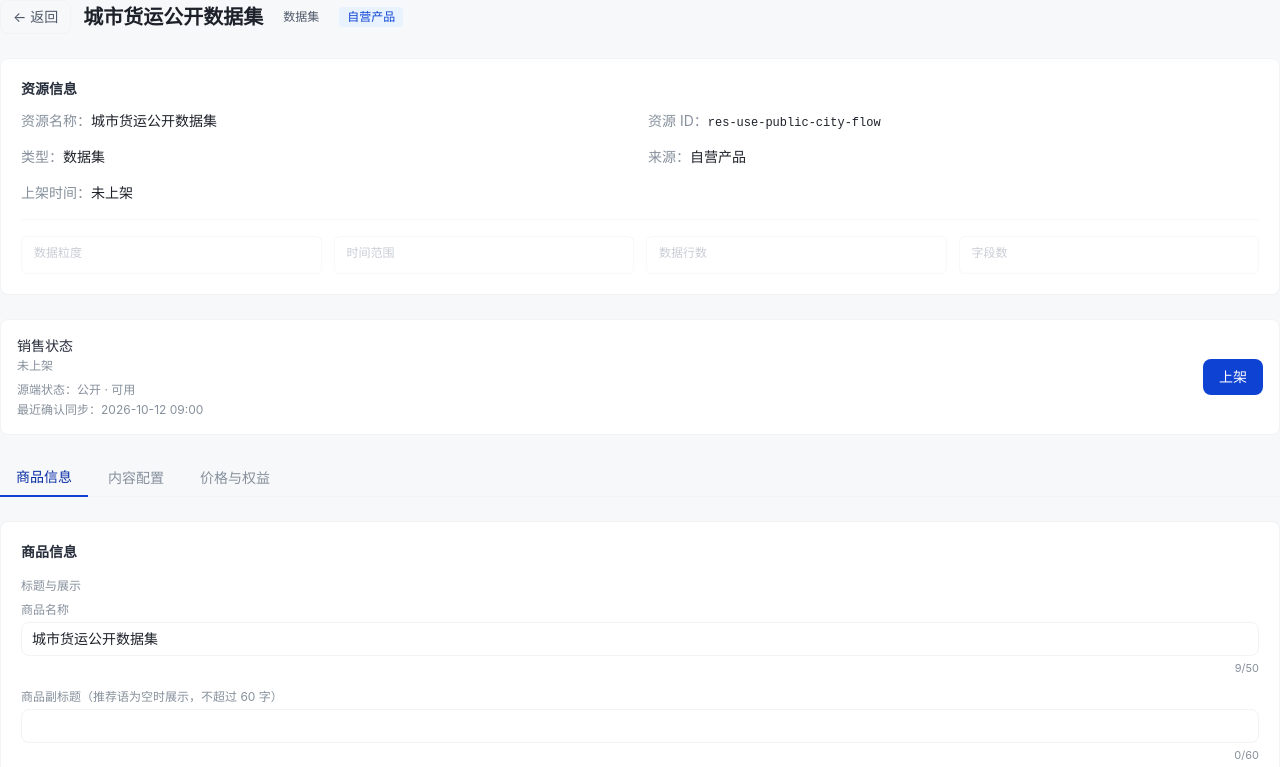
Test: ResourceEdit product-detail mapping › uses the common edit and publish flow for a public dataset
Expected: the element with test id "sales-status-bar" shows "未上架", [17, 358, 53, 373]
Expected: the field with test id "product-name-input" holds "城市货运公开数据集", [21, 622, 1259, 656]
Click the tab "价格与权益".
click(235, 478)  # box [184, 459, 286, 497]
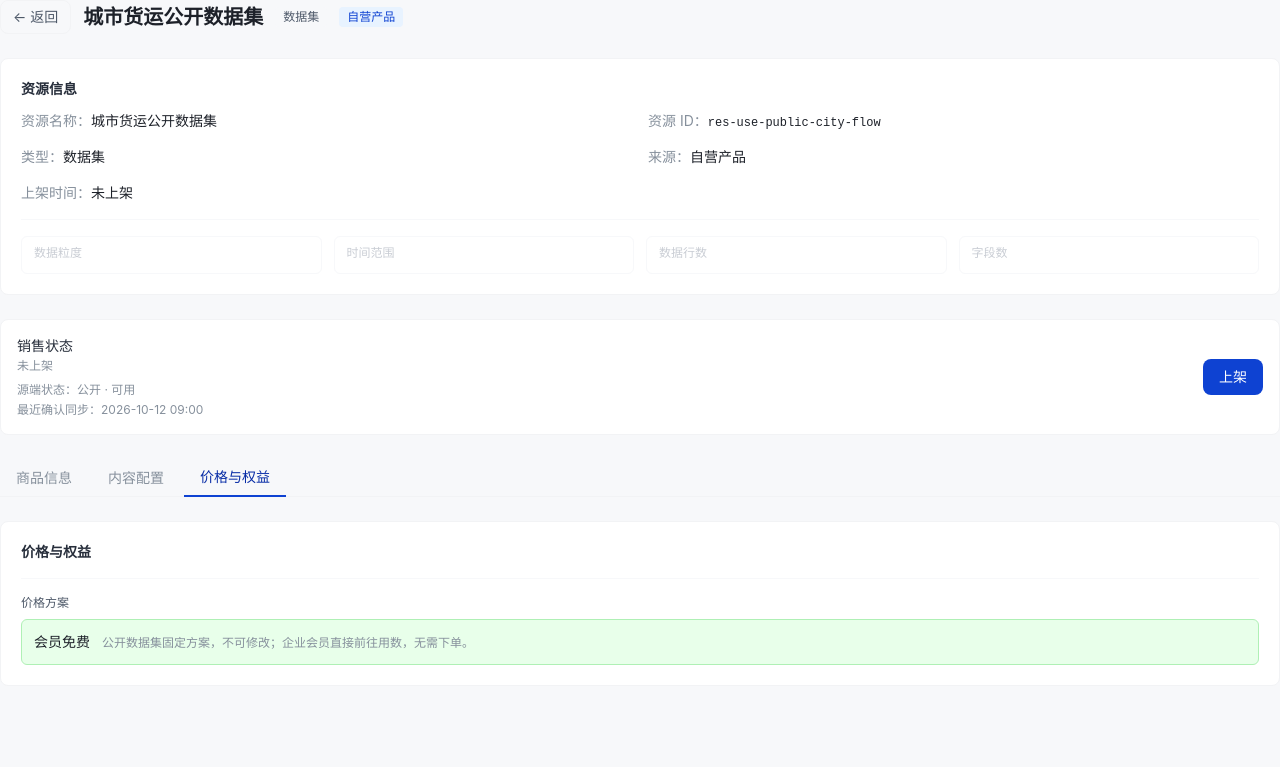
Expected: the element with test id "public-pricing-readonly" shows "会员免费", [34, 633, 90, 650]
Click the tab with test id "resource-edit-tab-product".
click(44, 478)  # box [0, 459, 88, 497]
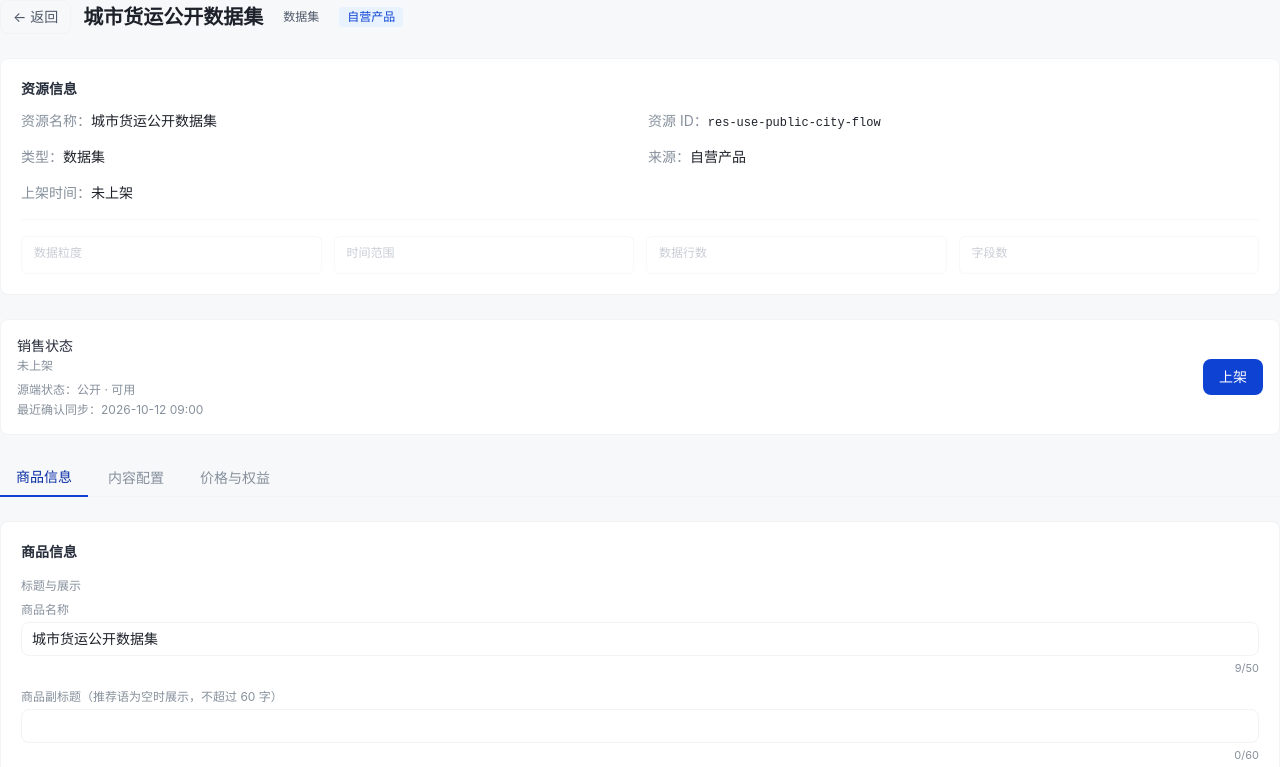
Replace the text in the field with test id "product-name-input" with "城市货运公开数据集（商品）" at (640, 639), box [21, 622, 1259, 656]
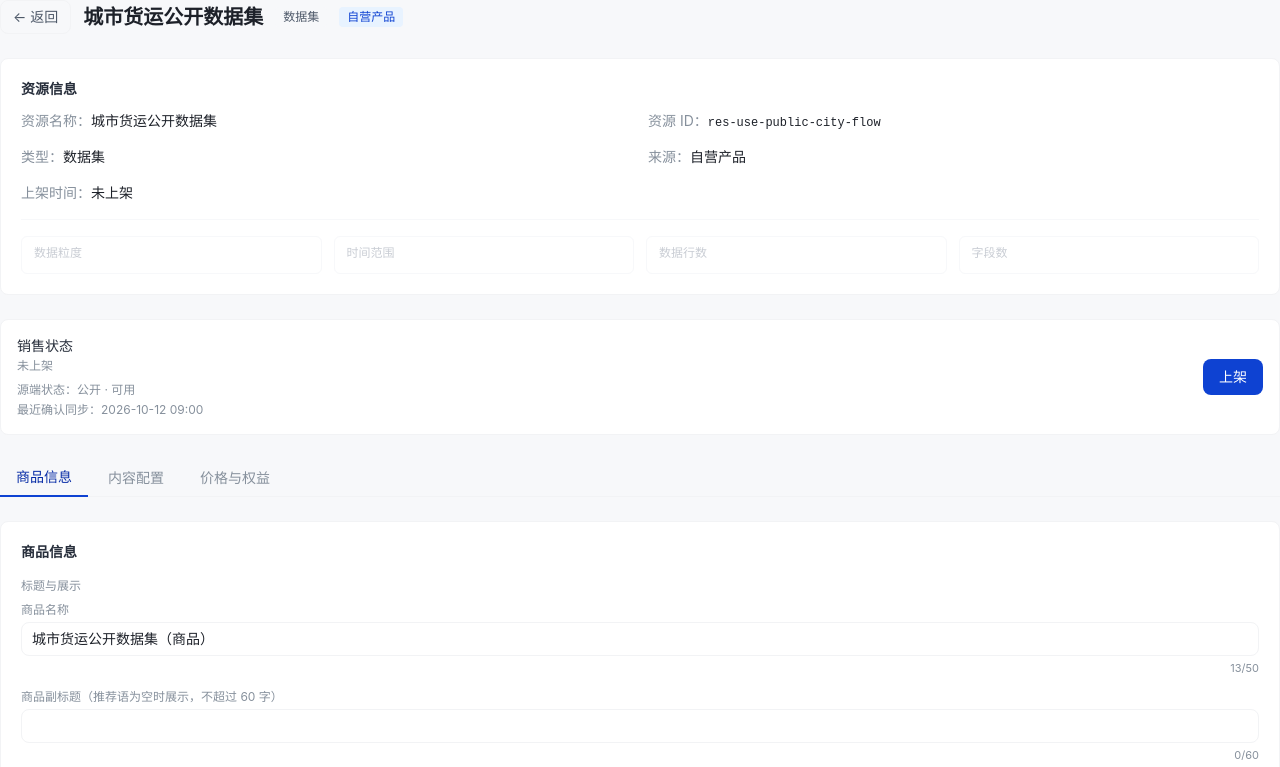
Click the button with test id "publish-product".
click(1233, 377)  # box [1203, 359, 1263, 395]
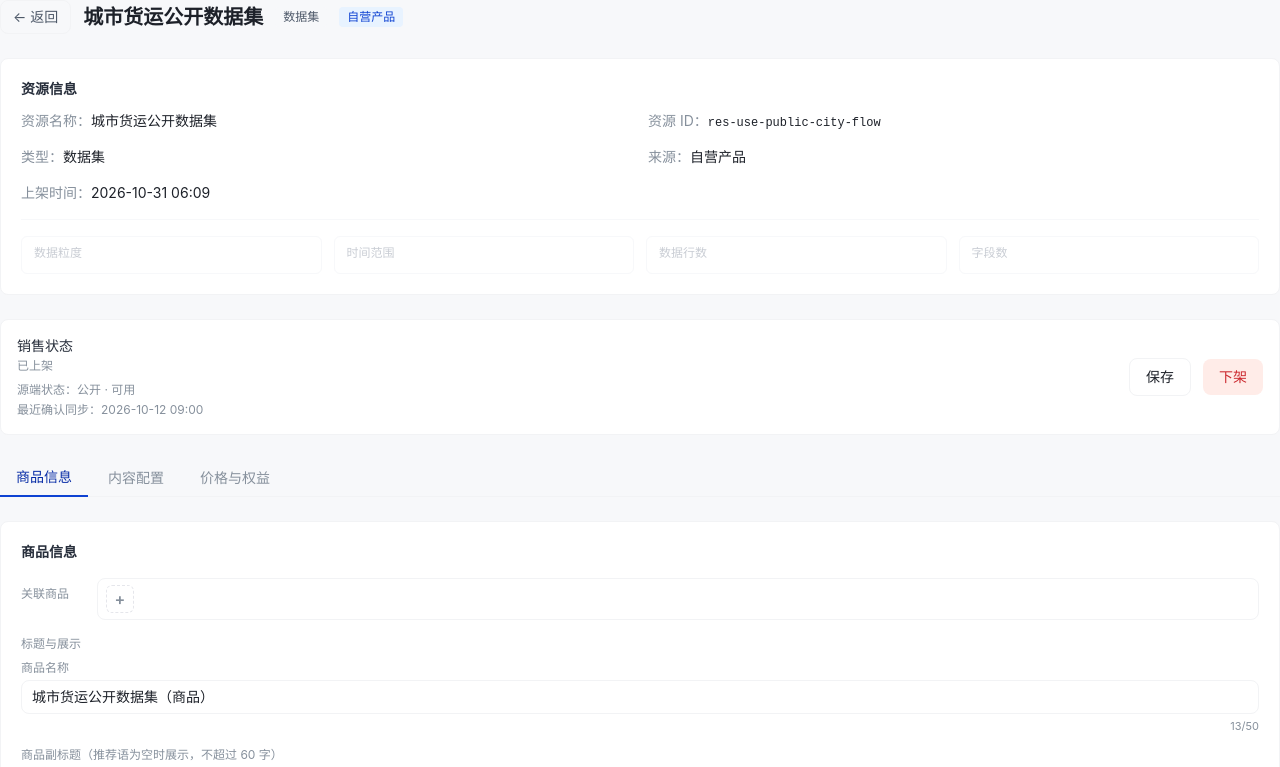
Expected: the button with test id "delist-product" is shown, [1203, 359, 1263, 395]
Click the tab "价格与权益".
click(235, 478)  # box [184, 459, 286, 497]
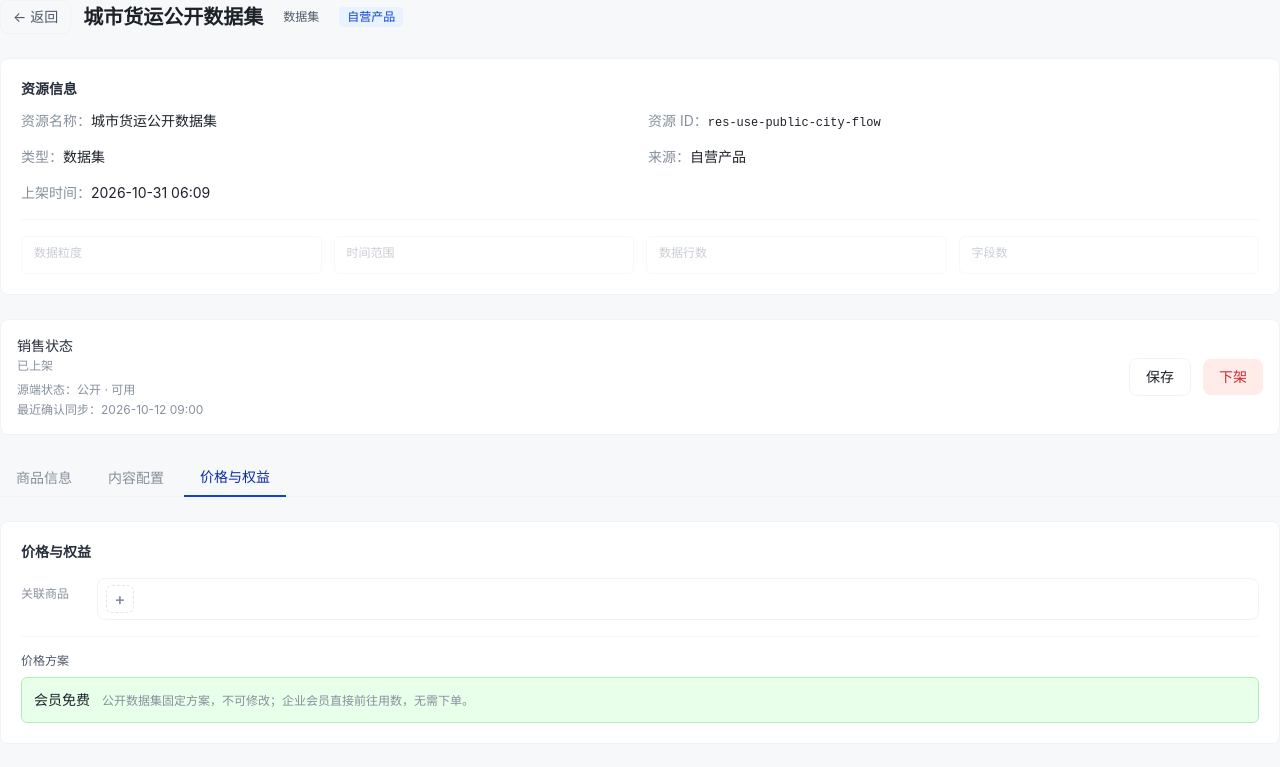
Expected: the element with test id "public-pricing-readonly" shows "不可修改", [102, 693, 474, 708]
